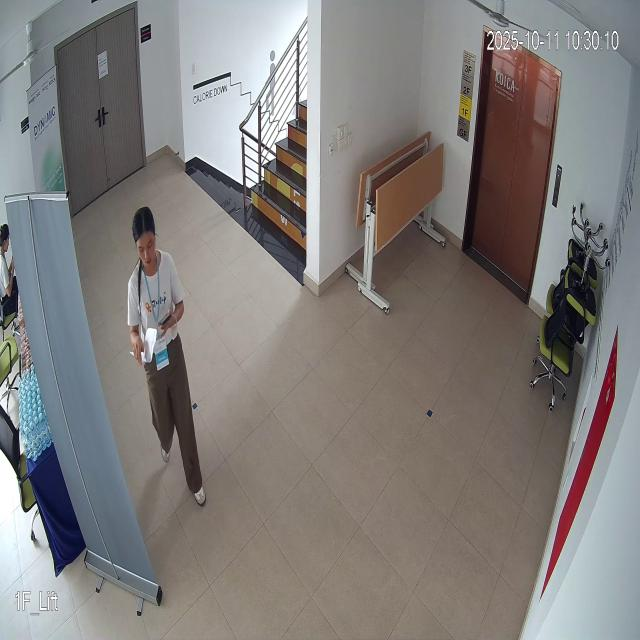face: (125, 200, 161, 276)
